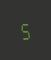five: (19, 20, 30, 39)
